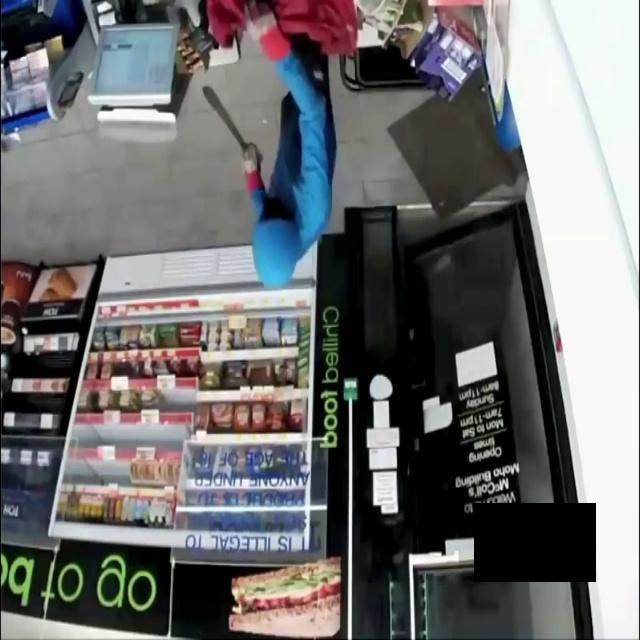gun: (197, 82, 270, 173)
